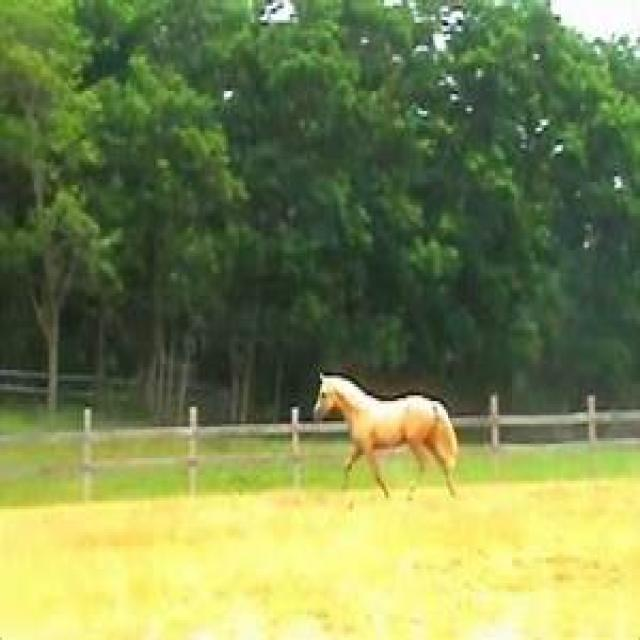horse: (312, 370, 458, 500)
